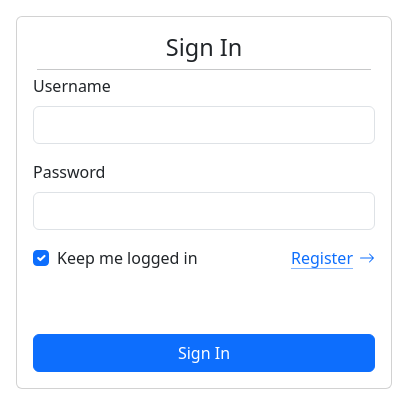
it: Login Component › displays error message when password is empty
The image size is (409, 406).
(page scrolled)
Type "username" into the field labelled "Username" at (204, 125), box 33,106 -> 375,144
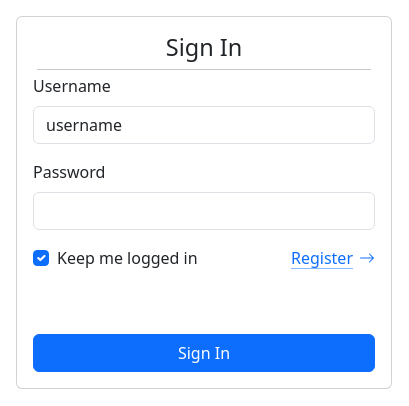
Click the button "Sign In" at (204, 353), box 33,334 -> 375,372
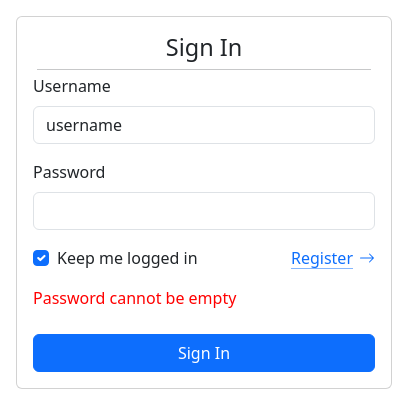
Expected: the text "Password cannot be empty" is shown, 33,287 -> 236,309
